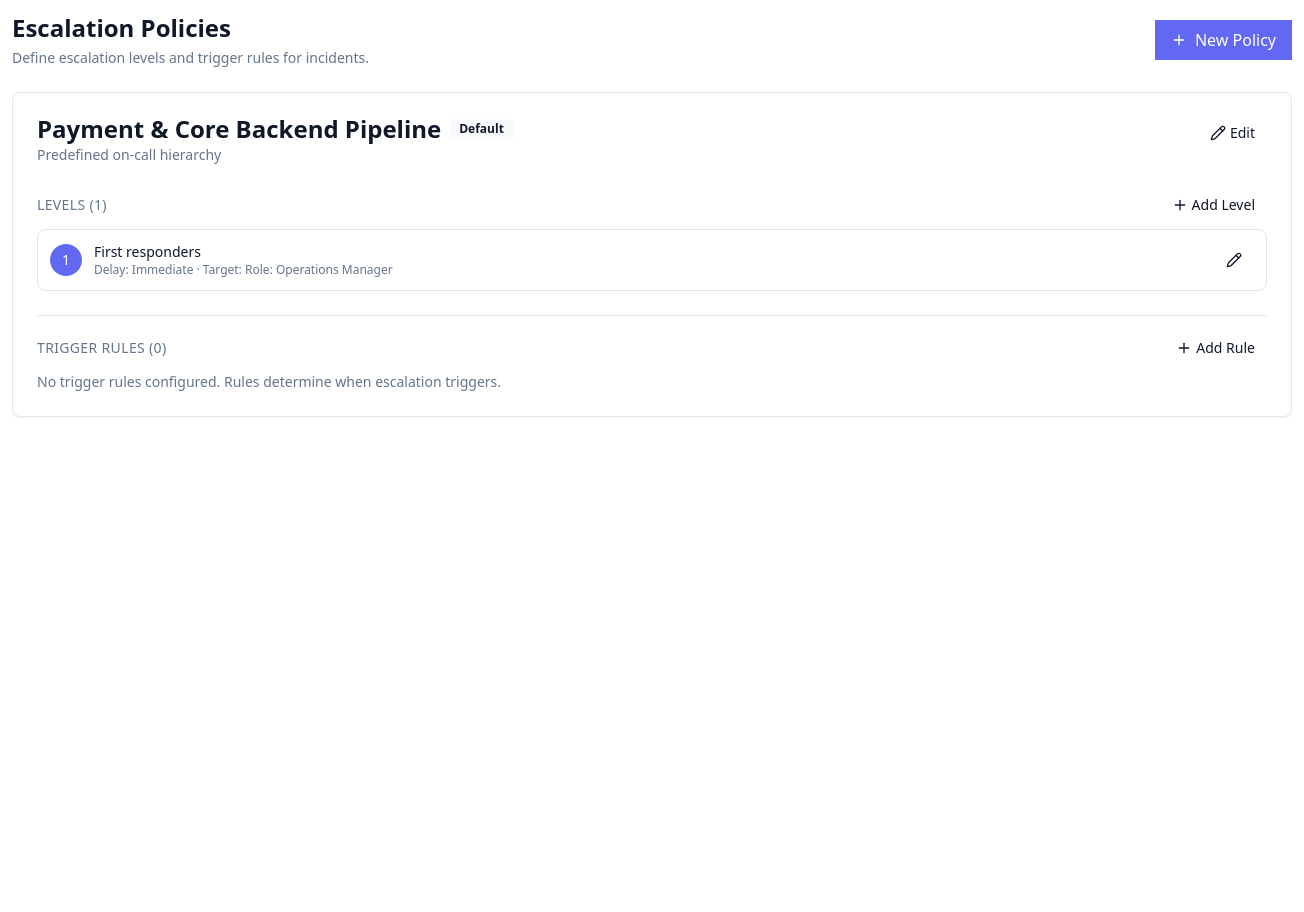
EscalationPoliciesPage — Escalation Level Role Assignment UX › displays detailed server error message when creating a policy fails
// Click "New Policy"
Click the button "New Policy": (1223, 40) [1155,20,1292,60]
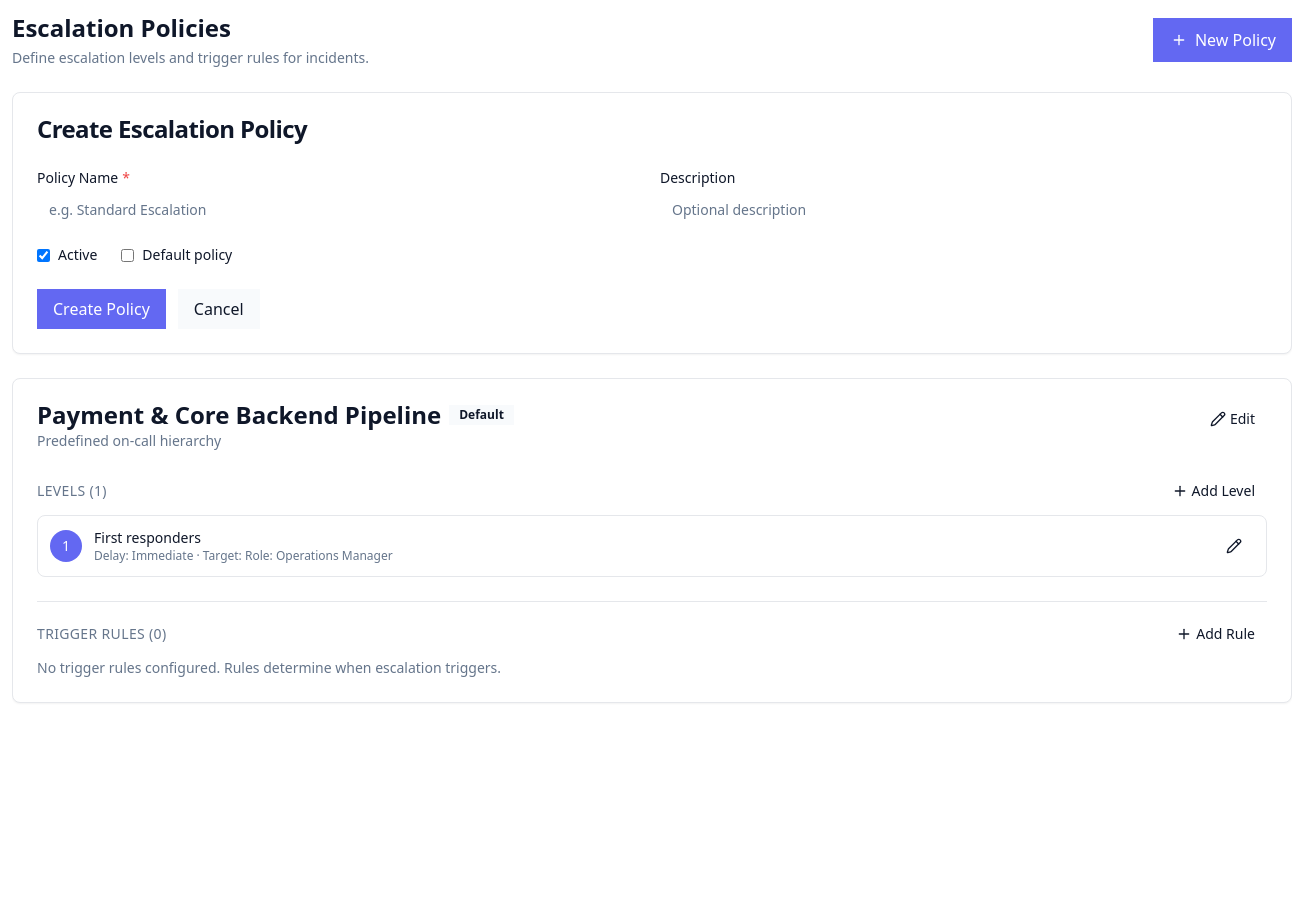
// Type policy name and save
In the field labelled "Policy Name*": (340, 209) [37,189,644,229], type "Existing Policy"
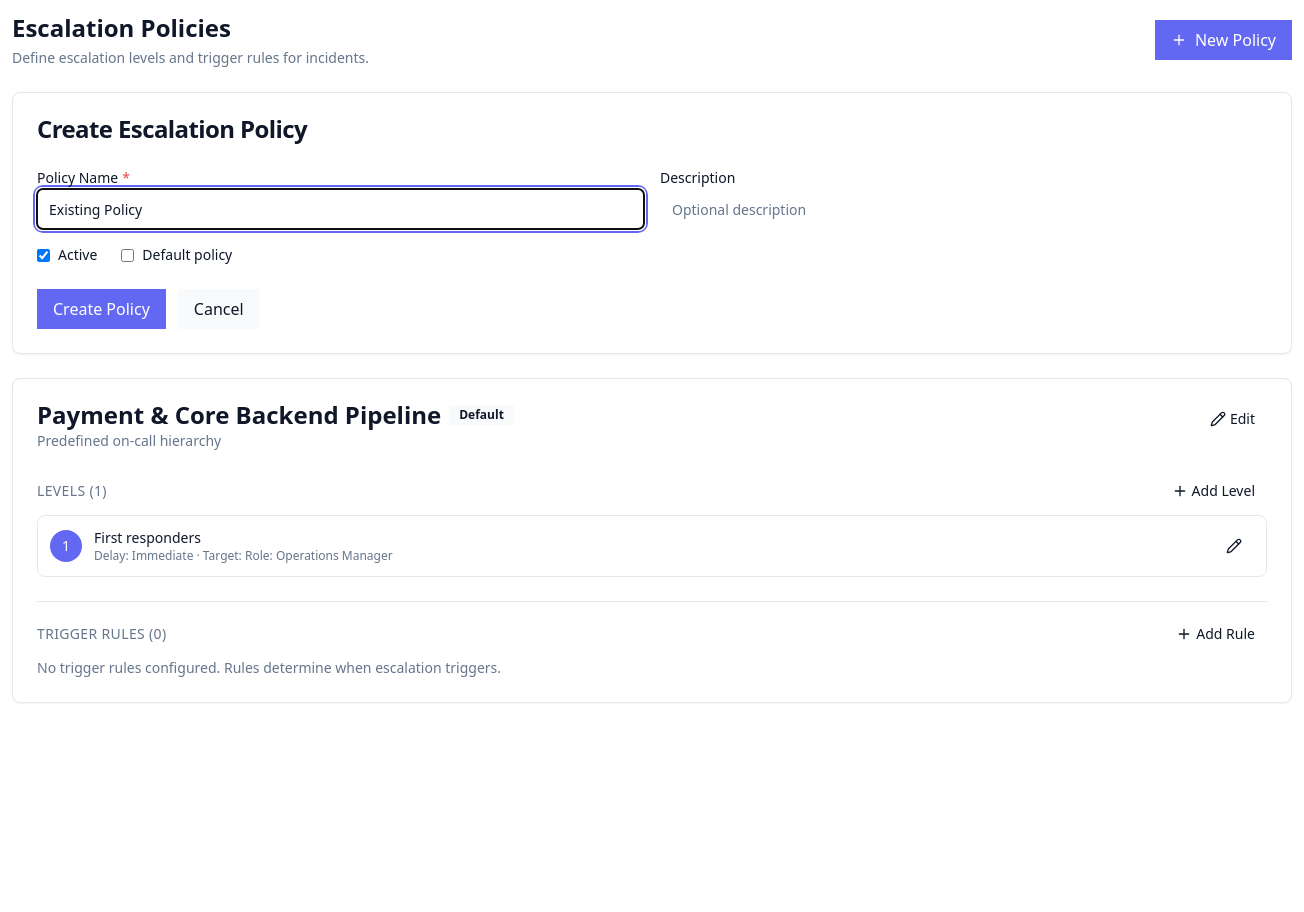
Click the button "Create Policy": (101, 309) [37,289,166,329]
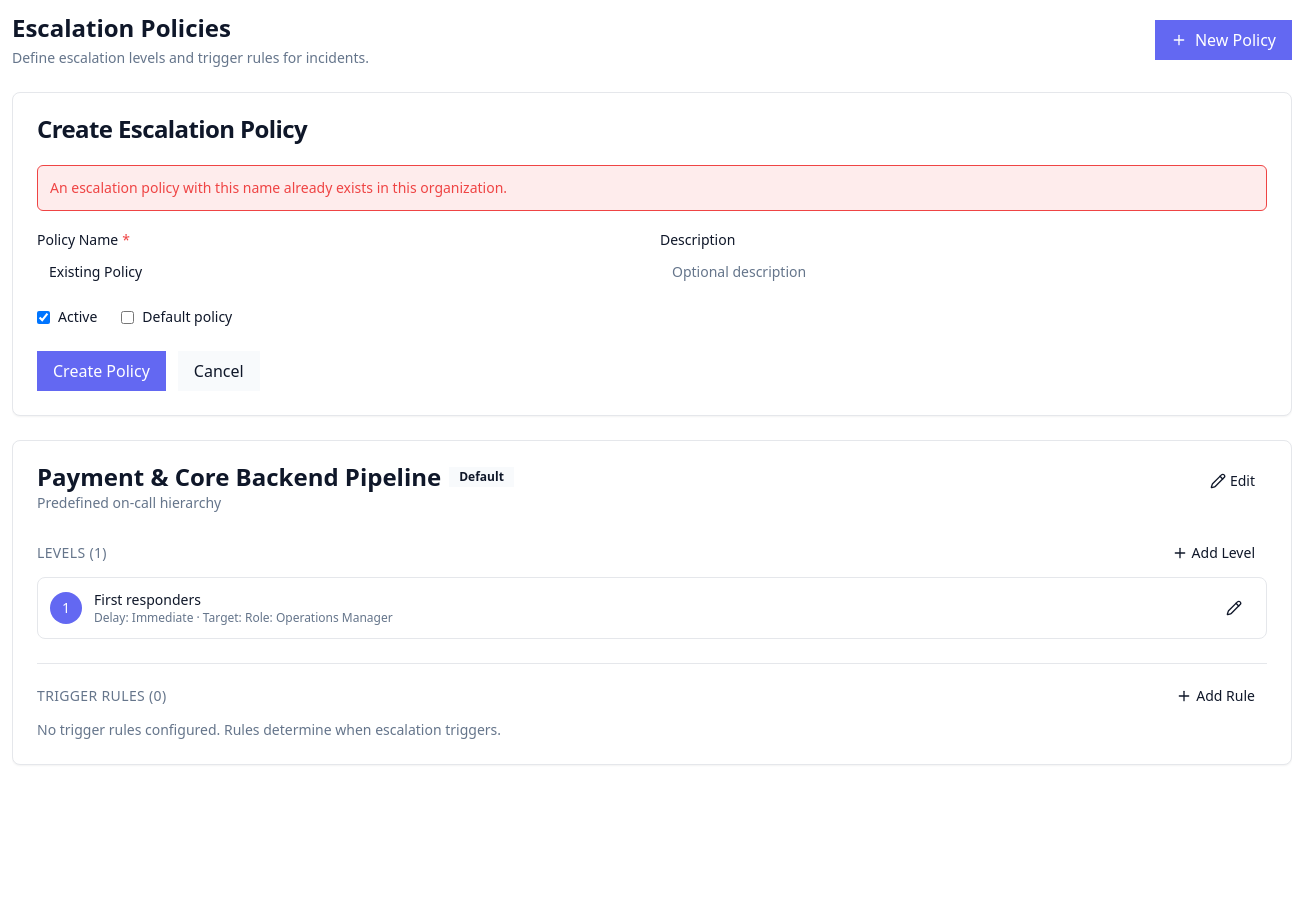
Now the text "An escalation policy with this name already exists in this organization." is shown, box [37,165,1267,211]
